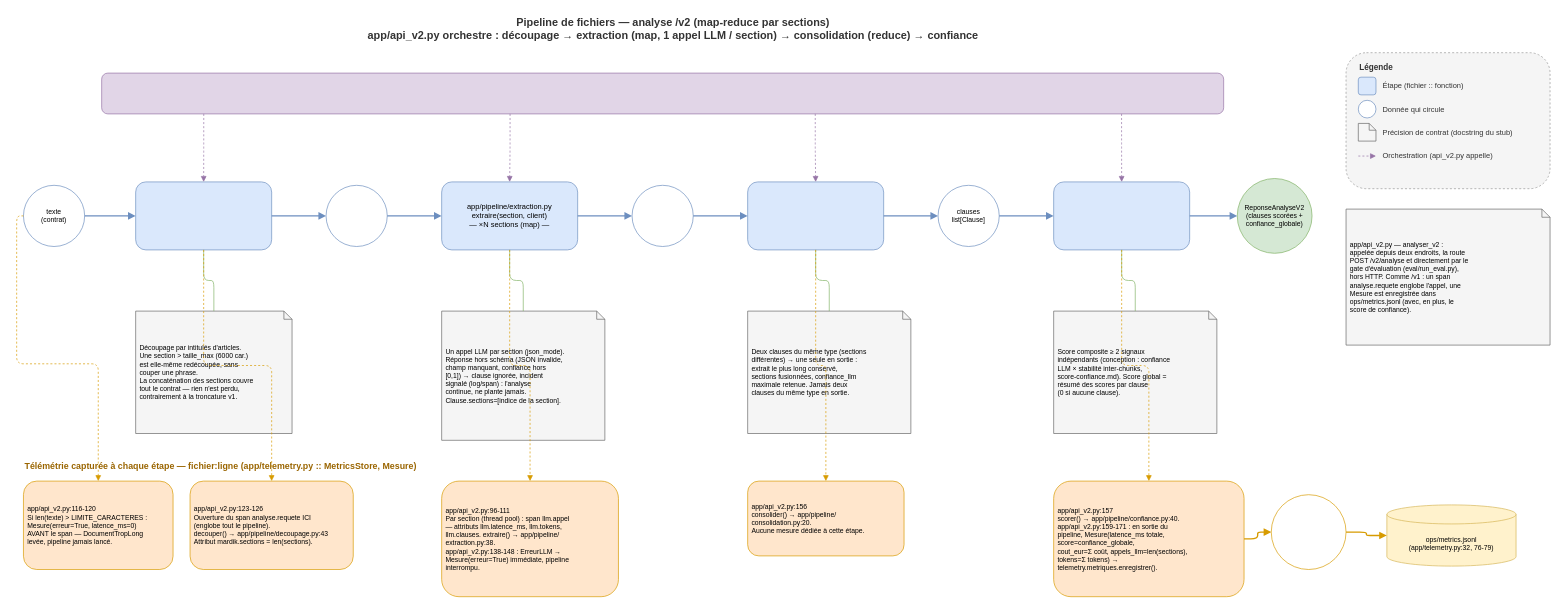
The diagram is 1562 pixels wide and 609 high, and some of its shapes have lost their labels. The centre of each missing label's shape, as x and y in pixels:
app/api_v2.py :: analyser_v2(texte, client, telemetry): (662,93)
app/pipeline/confiance.py scorer(clauses, texte) — score composite —: (1121,215)
app/pipeline/consolidation.py consolider(par_section) — fusion + dédoublonnage —: (815,215)
app/pipeline/decoupage.py decouper(texte): (203,215)
Mesure: (1308,532)
par_section list[list[Clause]]: (662,216)
sections list[Section]: (356,216)
